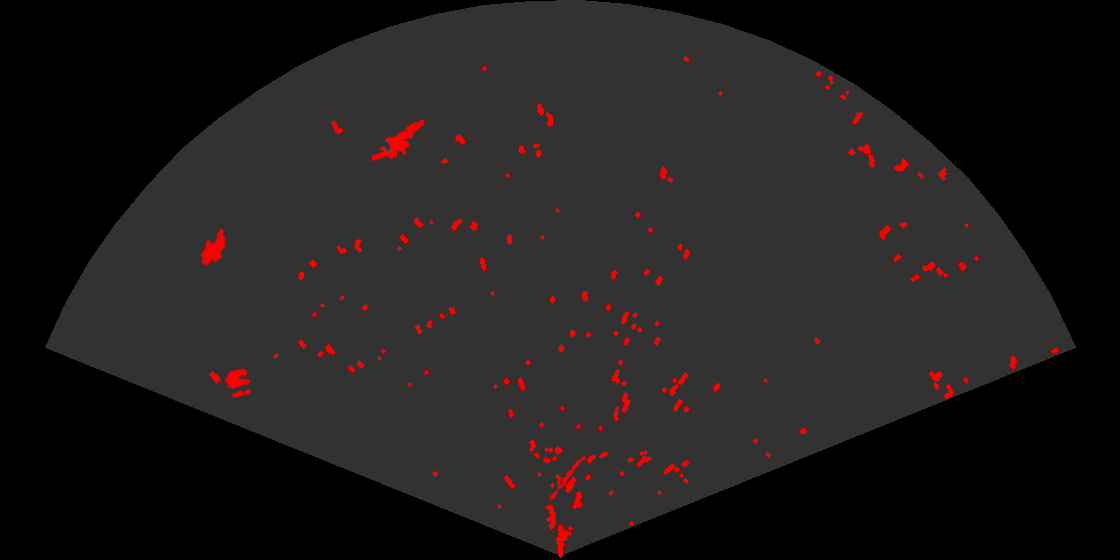AUV: (199, 227, 228, 268)
ball: (223, 367, 253, 400)
chain: (545, 449, 589, 503)
frogman: (372, 118, 427, 163)
